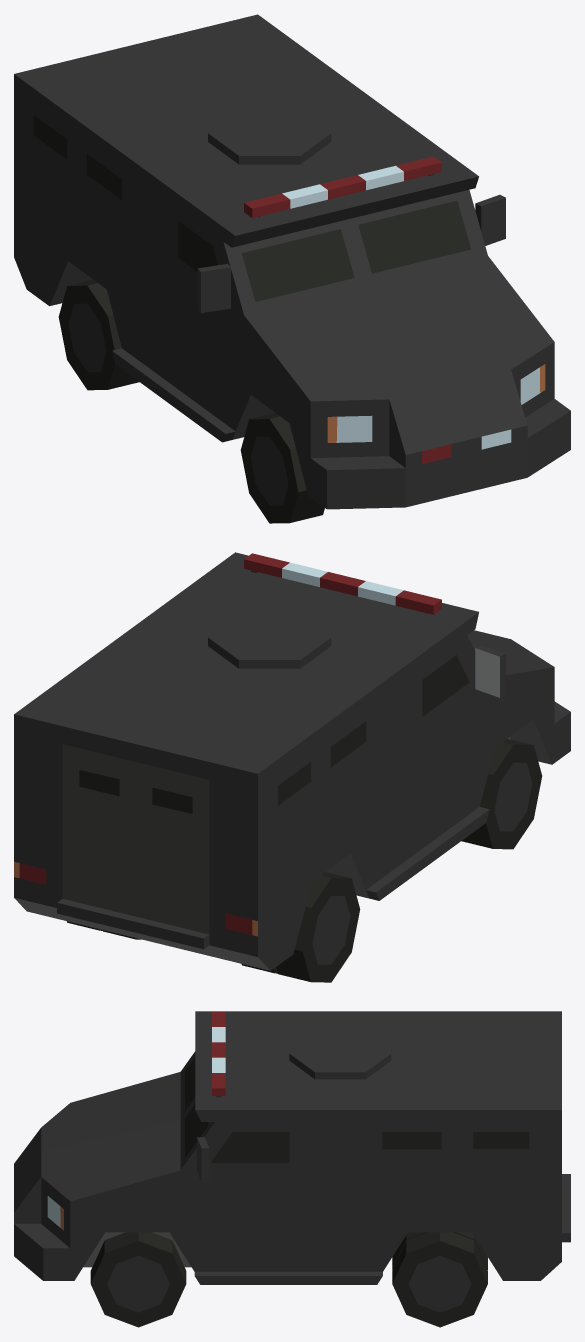
File: Veh_SWAT_APC_01.glb
The picture shows the model from 3 angles, top to bottom: view 1: azimuth 30°, elevation 25°; view 2: azimuth 150°, elevation 25°; view 3: azimuth 270°, elevation 25°; orthographic projection. The views are drawn at different scales.
Parts seen in each view (by area): view 1: SWAT_APC_01, Wheel_FR, Wheel_RR; view 2: SWAT_APC_01, Wheel_RR, Wheel_FR; view 3: SWAT_APC_01, Wheel_RL, Wheel_FL.
Part boxes in pixels (left/top/right/bottom): SWAT_APC_01: left=14, top=14, right=570, bottom=509; Wheel_FR: left=240, top=413, right=324, bottom=523; Wheel_RR: left=58, top=279, right=139, bottom=390; SWAT_APC_01: left=14, top=552, right=570, bottom=970; Wheel_RR: left=241, top=872, right=360, bottom=982; Wheel_FR: left=461, top=739, right=542, bottom=849; SWAT_APC_01: left=14, top=1011, right=570, bottom=1284; Wheel_RL: left=392, top=1232, right=487, bottom=1327; Wheel_FL: left=90, top=1232, right=186, bottom=1327.
Bounding box in the file's own units: 1.89 × 1.63 × 3.6.
Materials: 1 (1 with a texture image).
